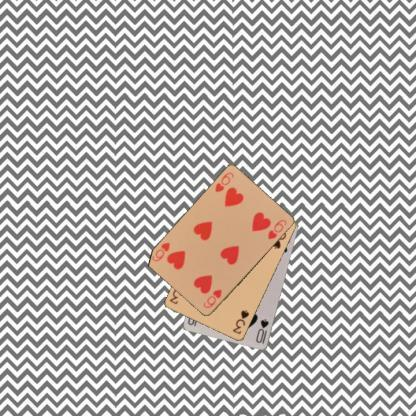10s: (254, 316, 270, 346)
3s: (230, 307, 250, 336)
6h: (200, 286, 223, 310), (212, 170, 235, 194)
